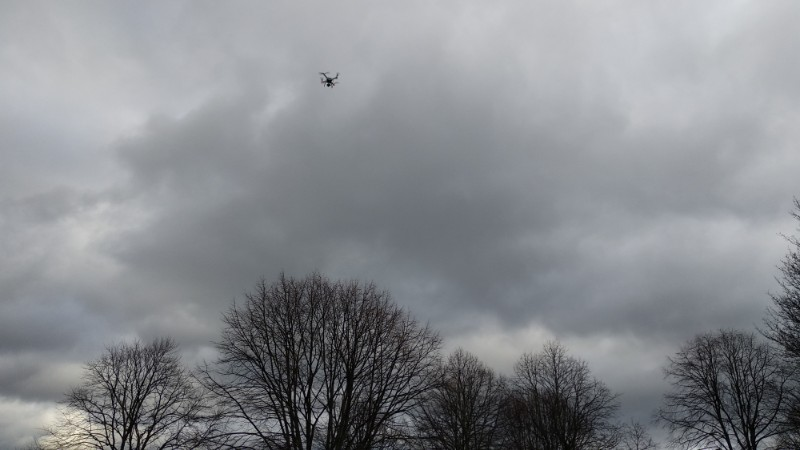drone: (319, 71, 342, 90)
